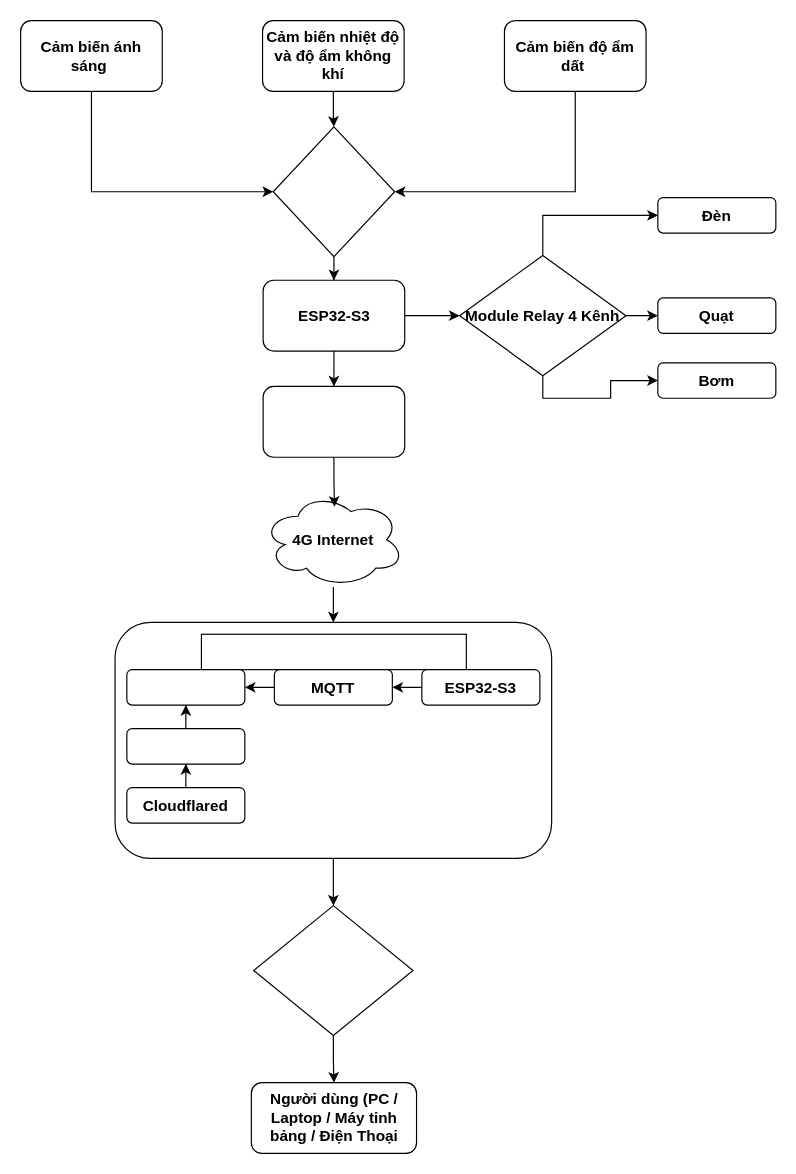
Some shapes in this 796 by 1174 pixel diagram are drawn without their labels. The box of each missing label's shape, as (x1, y1, x2, y2) in pixels:
HTTPS (Web dashboard): (253, 904, 413, 1035)
MQTT Broker: (126, 668, 245, 705)
Node-RED: (126, 727, 245, 764)
Raspberry Pi - IoT Server / GateWay: (200, 633, 466, 670)
SIMCOM 4G A7680C: (262, 385, 405, 457)
Thu thập tín hiệu: (272, 126, 395, 257)
